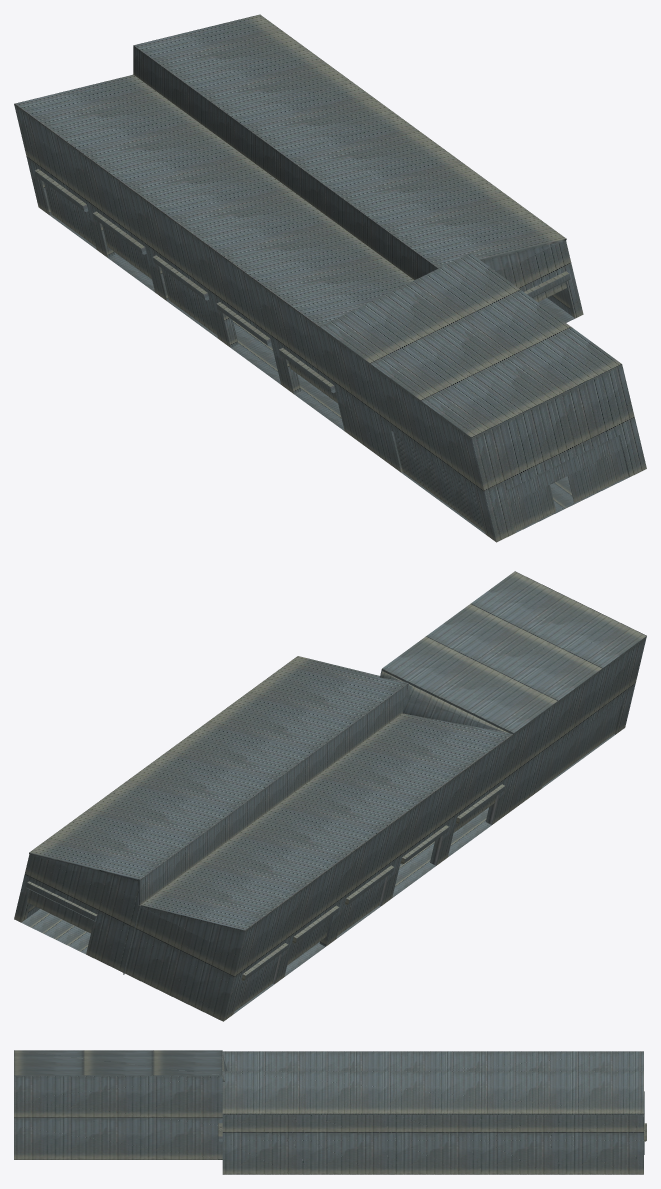
3 renders of one model, top to bottom at view 1: azimuth 30°, elevation 25°; view 2: azimuth 150°, elevation 25°; view 3: azimuth 270°, elevation 25°, orthographic. The views are drawn at different scales.
Parts seen in each view (by area): view 1: 1; view 2: 1; view 3: 1.
Part boxes in pixels (x1,y1,x2,y2): 1: (14, 14, 646, 542); 1: (14, 571, 646, 1021); 1: (14, 1050, 646, 1174).
Size of the model in its own units: 20.23 by 10.84 by 61.13.
1 material, 1 textured.
